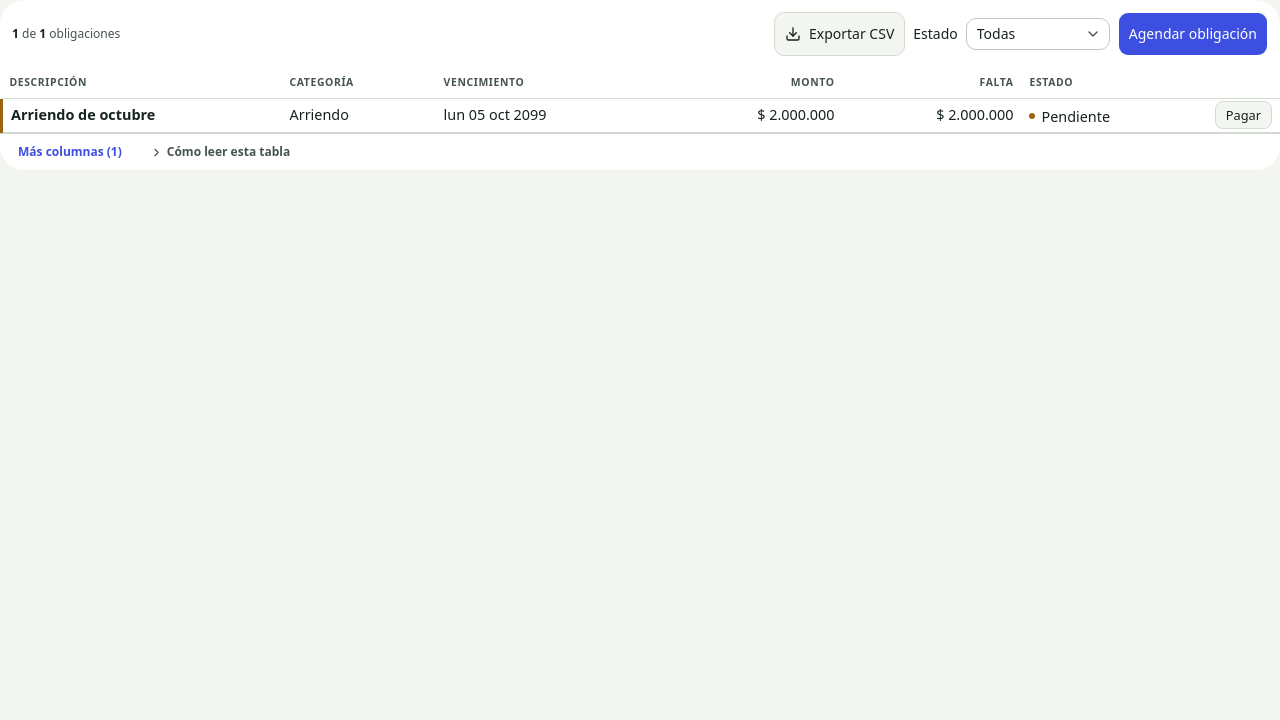
Scenario: ObligationsTab — pagar elige de dónde salió la plata (u4) y admite abonos (c5) › sin egresos del cajón disponibles, lo dice y no deja confirmar
Click the button "Pagar".
click(1243, 115)  # box [1215,101,1272,129]
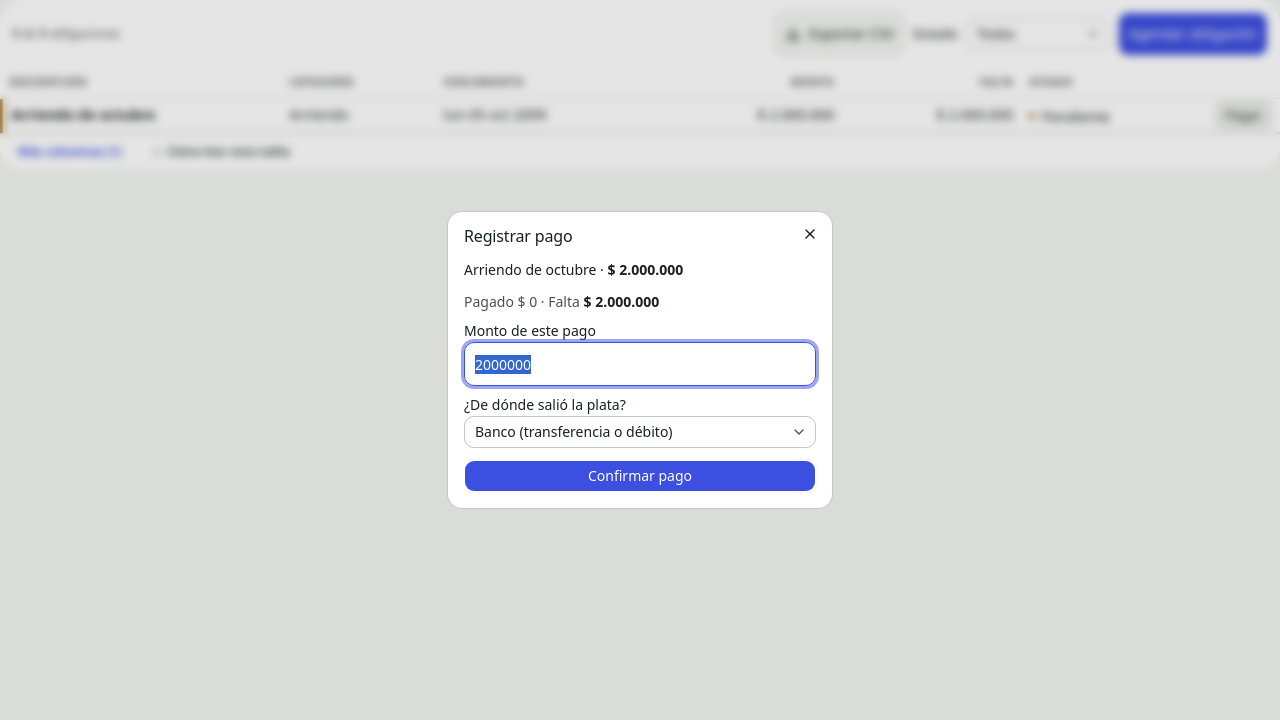
Click the dropdown named "¿De dónde salió la plata?".
click(640, 432)  # box [464,416,816,448]
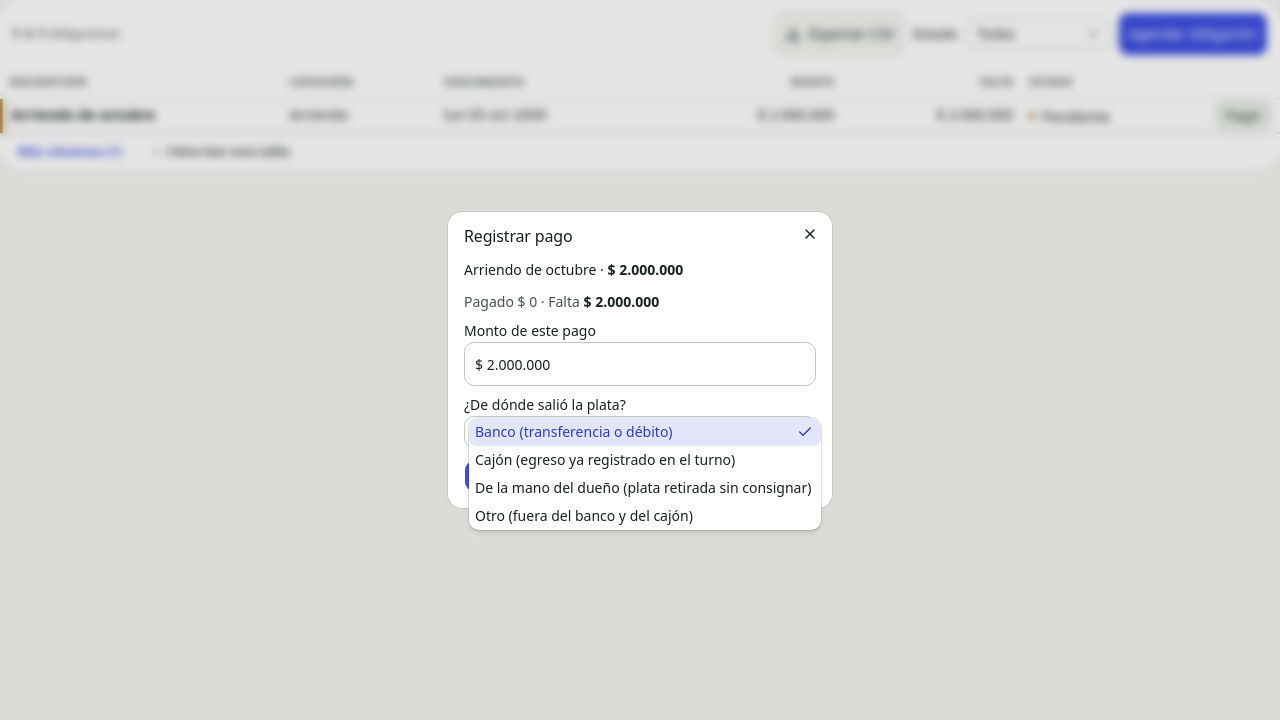
Click the option "Cajón (egreso ya registrado en el turno)".
click(605, 460)  # box [475,450,735,469]
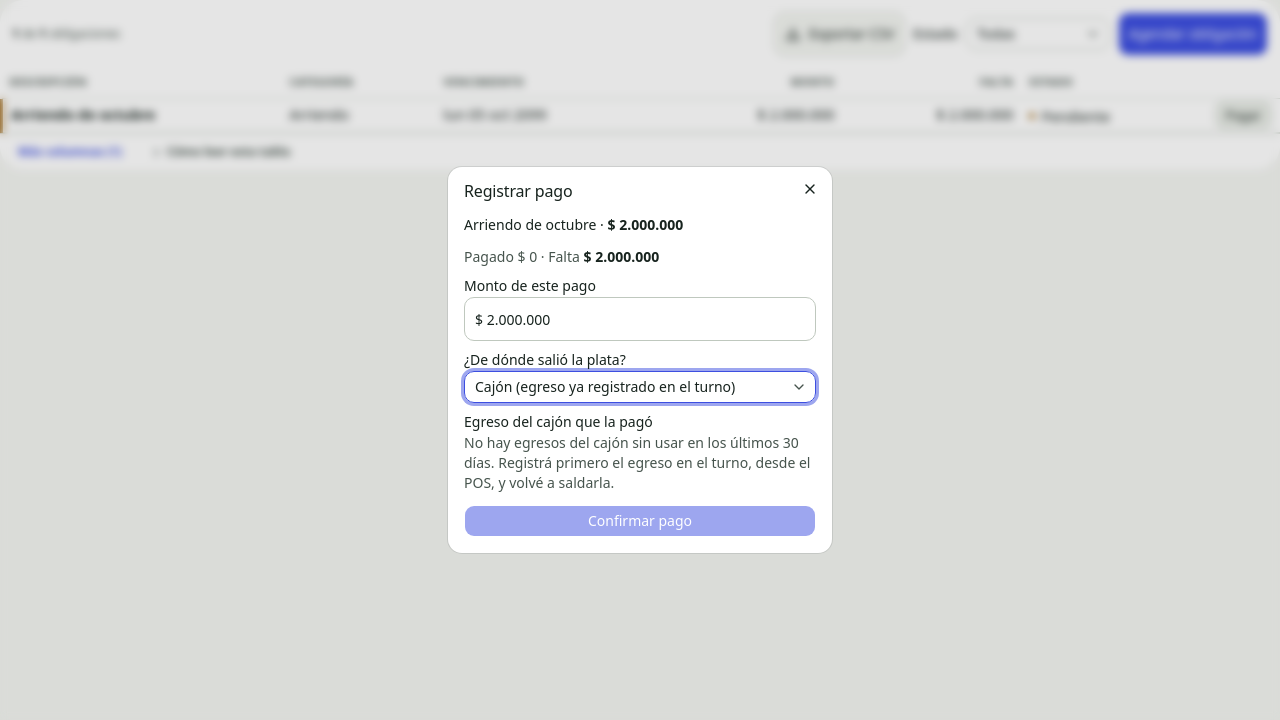
expect the text "No hay egresos del cajón sin usar" is shown: met, box [464,433,810,492]
expect the button "Confirmar pago" is disabled: met, box [464,505,816,537]
